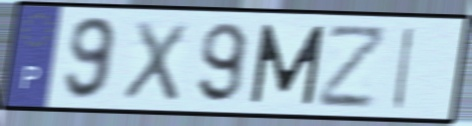9: (62, 14, 120, 103), (196, 20, 250, 105)
I: (389, 23, 418, 112)
M: (247, 22, 328, 107)
X: (119, 17, 191, 104)
Z: (315, 23, 391, 110)
